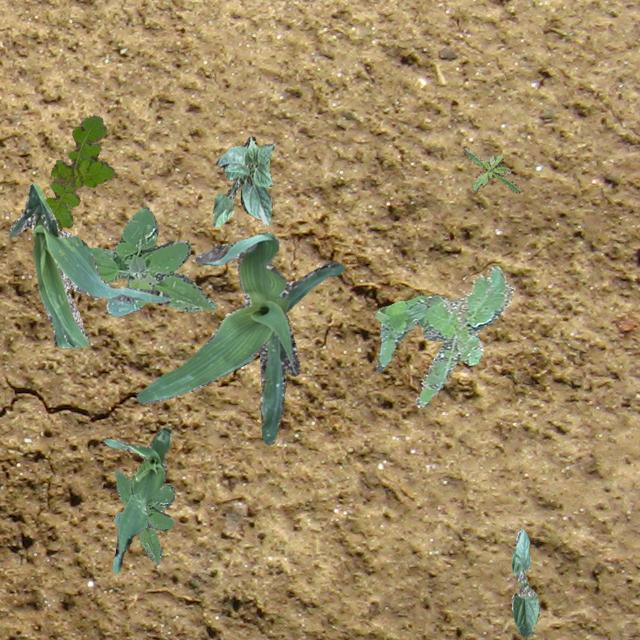crop: (136, 231, 344, 444), (8, 182, 170, 346), (102, 426, 170, 572), (216, 136, 274, 224), (511, 528, 538, 636), (212, 170, 244, 226)
weed: (374, 264, 512, 406), (89, 206, 214, 314), (44, 114, 114, 230), (114, 470, 174, 562), (464, 146, 520, 192)
